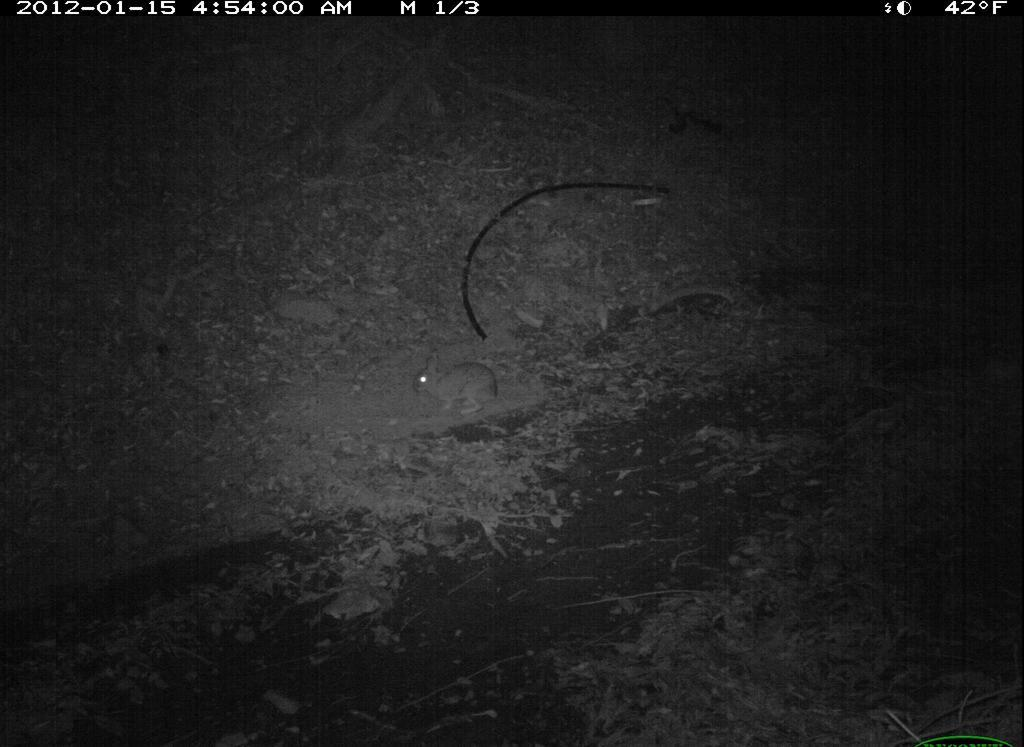rabbit: (410, 347, 507, 423)
